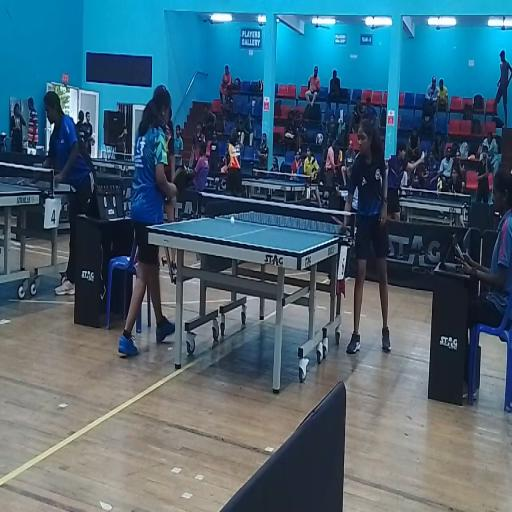ball: (230, 218, 235, 224)
